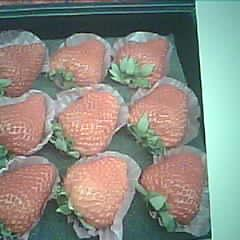straw-ripe: (65, 156, 129, 228), (142, 153, 204, 222), (0, 163, 55, 236), (128, 86, 189, 147), (60, 92, 119, 155), (0, 96, 45, 154), (0, 43, 45, 97), (52, 41, 105, 86), (117, 40, 171, 82)
